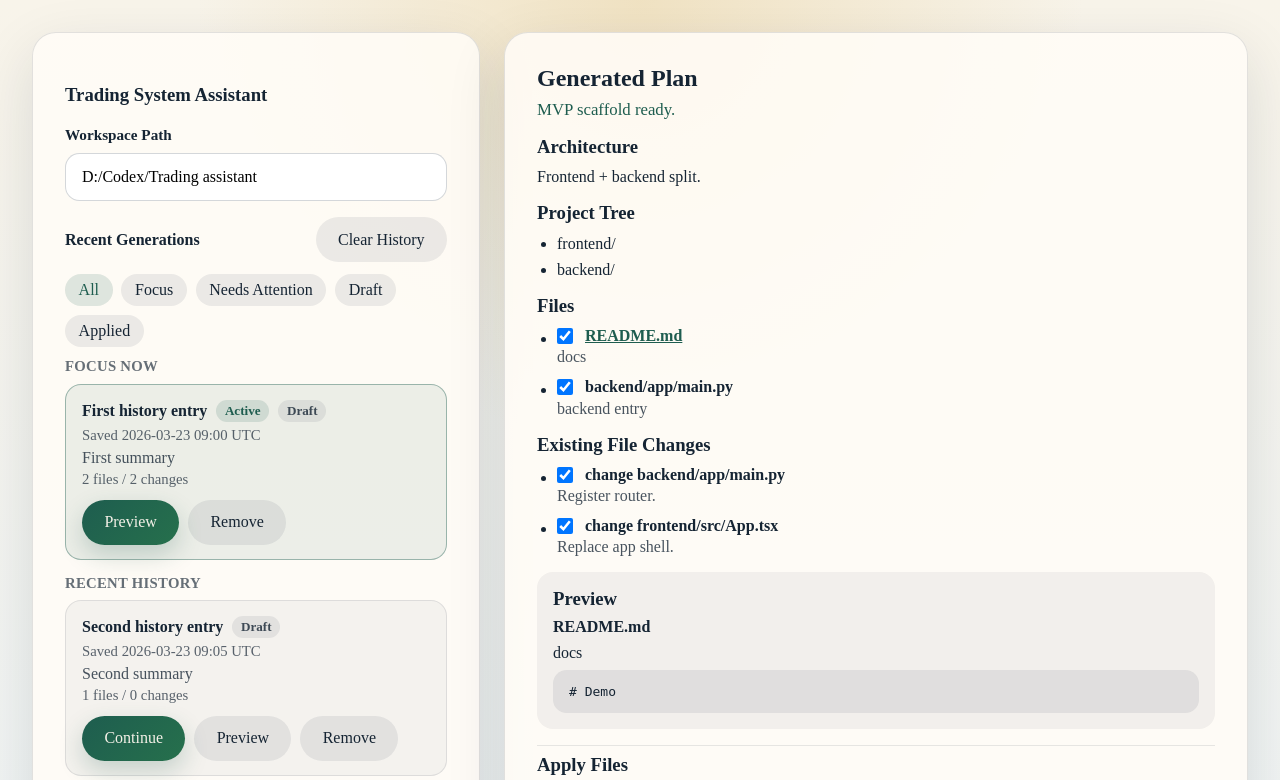
App › moves the active badge after restoring a different generation
Click the button with aria-label "continue second history entry": click(134, 738) x1=82 y1=716 x2=186 y2=761
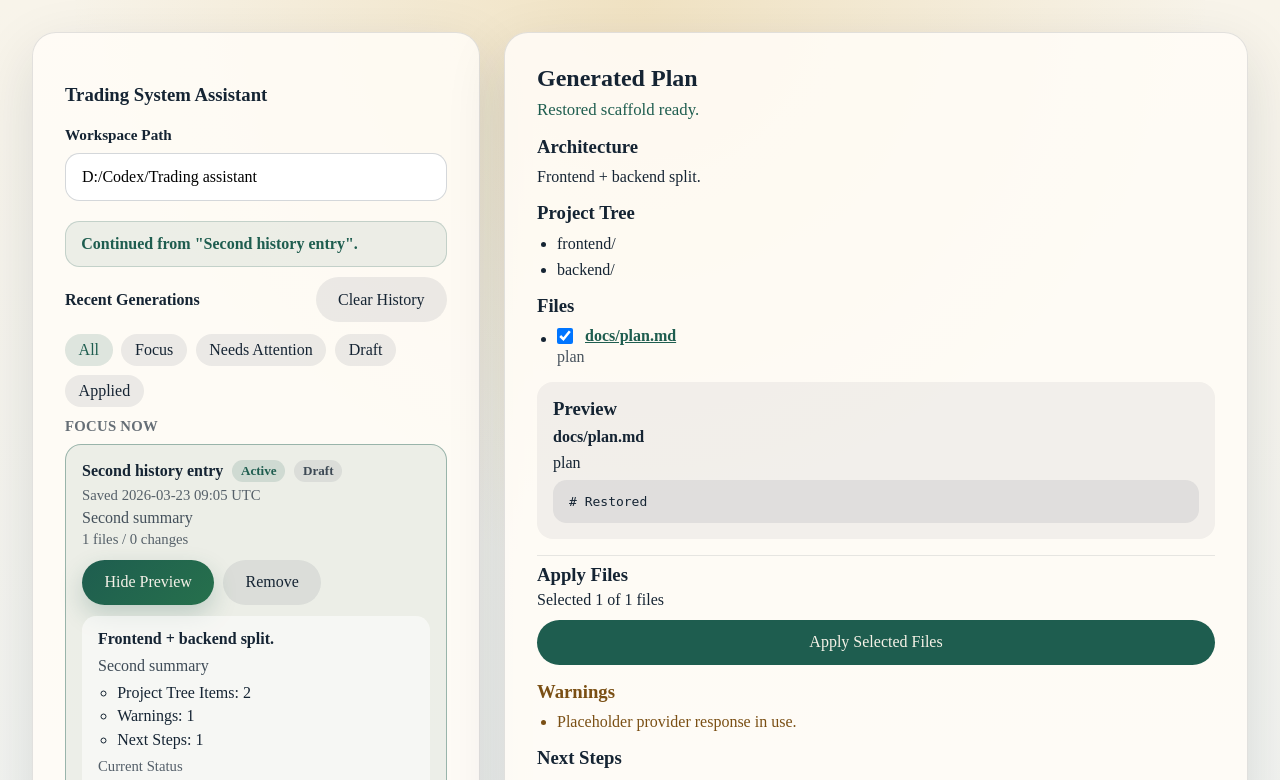
Expected: the text "Active" is shown, x1=232 y1=460 x2=285 y2=482
Result: the button with aria-label "preview second history entry" is shown at x1=82 y1=560 x2=214 y2=605
